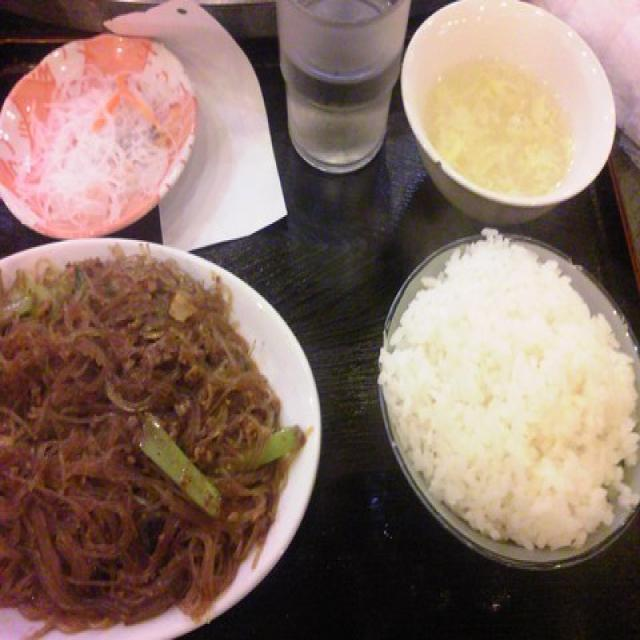Rice: (390, 252, 640, 532)
